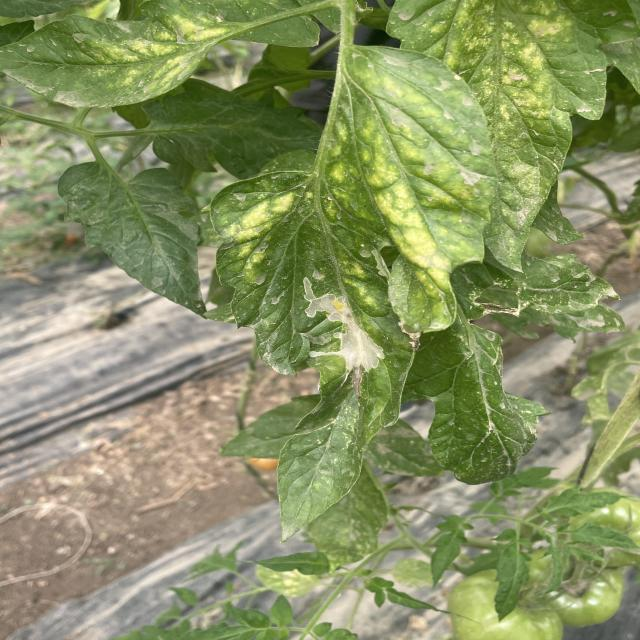Tuta absoluta: (302, 271, 385, 376)
